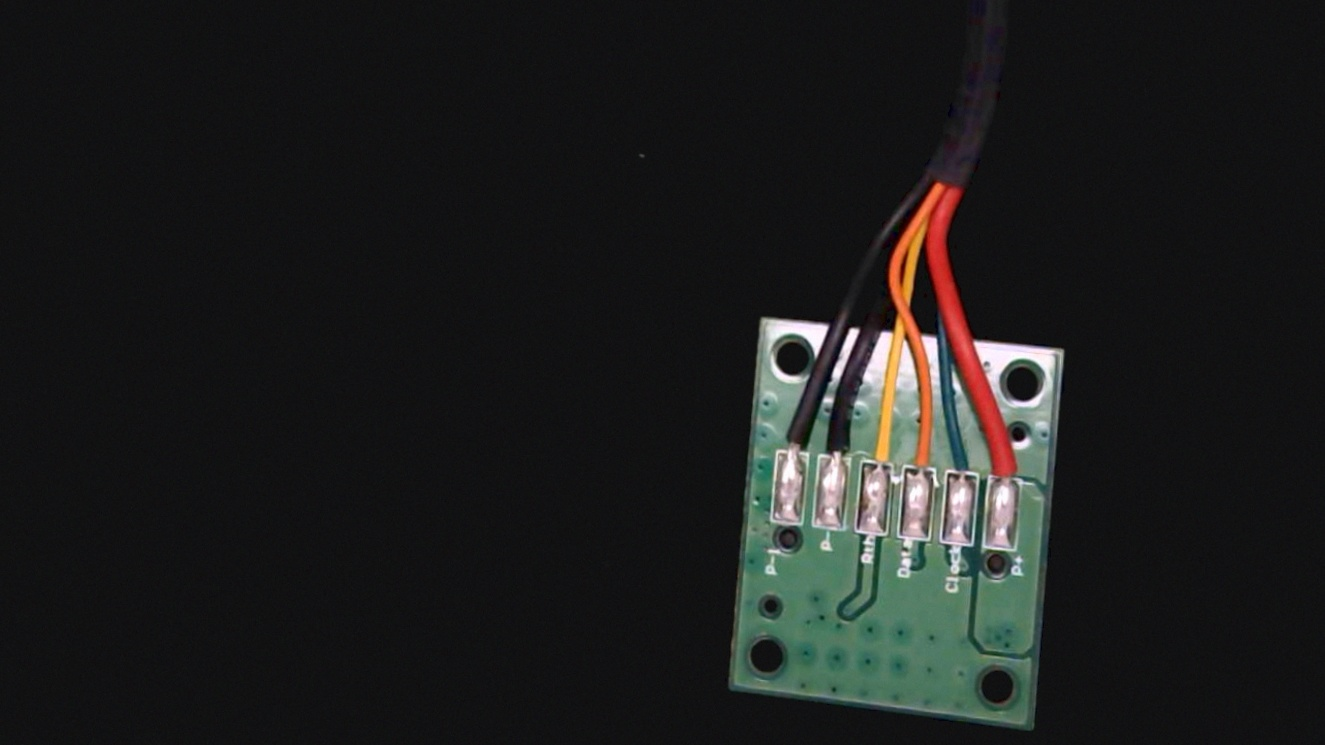Black: (816, 405, 858, 475)
Black1: (773, 412, 811, 473)
Green: (943, 429, 983, 488)
Orange: (902, 409, 939, 487)
Red: (986, 423, 1024, 493)
Yellow: (864, 401, 903, 485)
